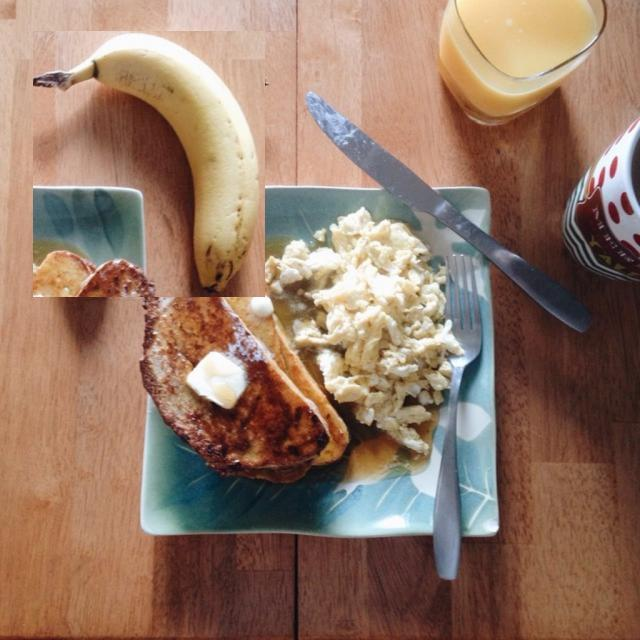Banana: (33, 31, 265, 297)
